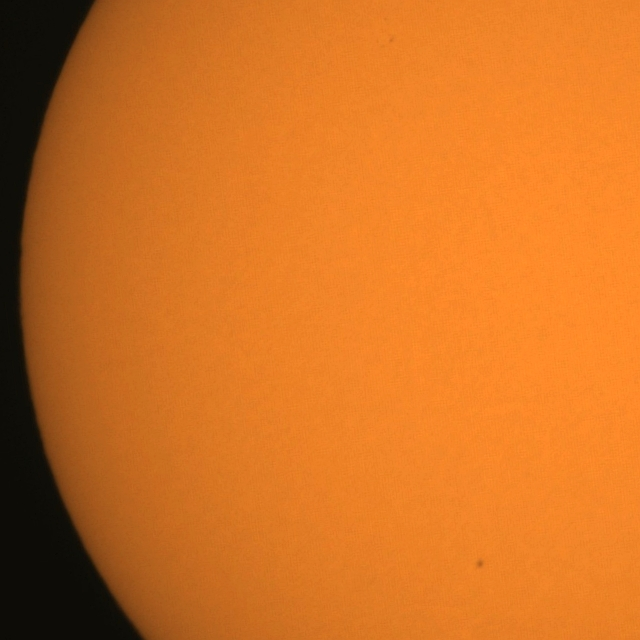sunspot: (474, 558, 485, 570)
